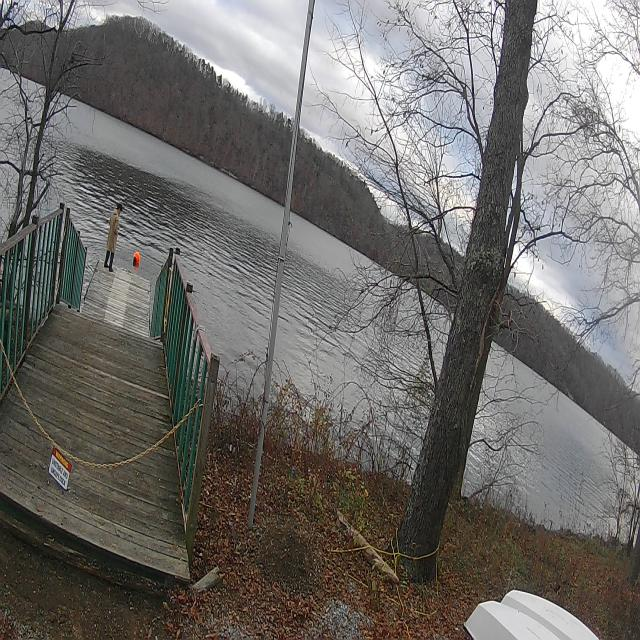Buoy: (130, 243, 143, 277)
